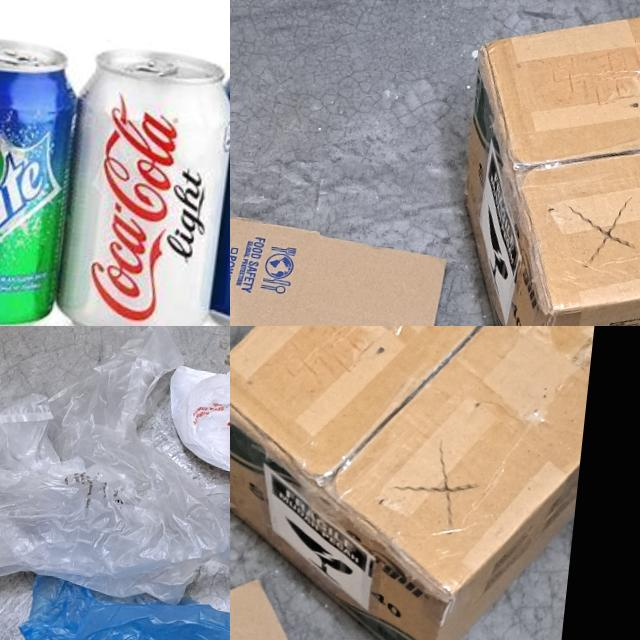aba de lata: (123, 54, 179, 78), (0, 45, 41, 65)
lata: (49, 40, 230, 326), (0, 26, 87, 326)
papelão: (230, 326, 603, 640), (434, 0, 640, 326), (230, 211, 447, 326)
sacola plástica: (0, 326, 230, 613), (7, 542, 230, 640), (152, 326, 230, 554)
